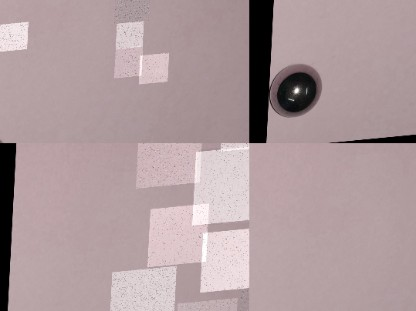ironball: (193, 151, 249, 230), (148, 209, 209, 271), (136, 143, 203, 192), (201, 233, 249, 298), (269, 63, 323, 120), (111, 271, 178, 311), (115, 0, 150, 27), (140, 58, 170, 89), (115, 50, 144, 82), (0, 24, 29, 53), (117, 25, 145, 53), (220, 143, 249, 157)
